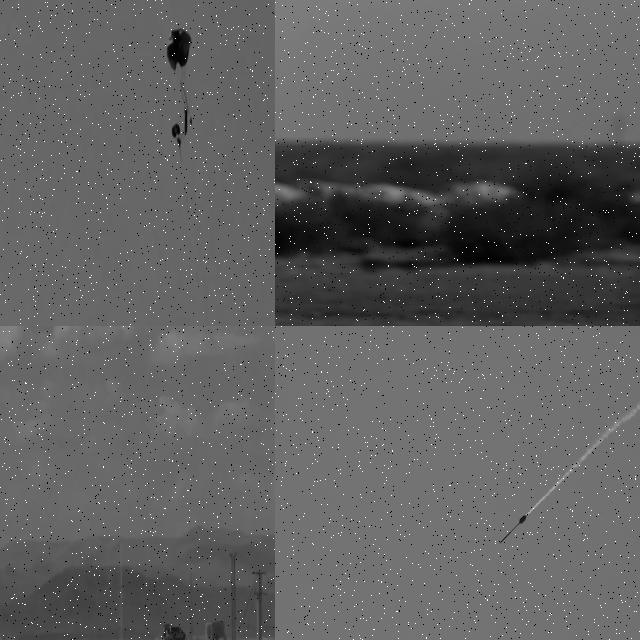Rocket: (499, 514, 528, 544), (185, 106, 187, 135)
